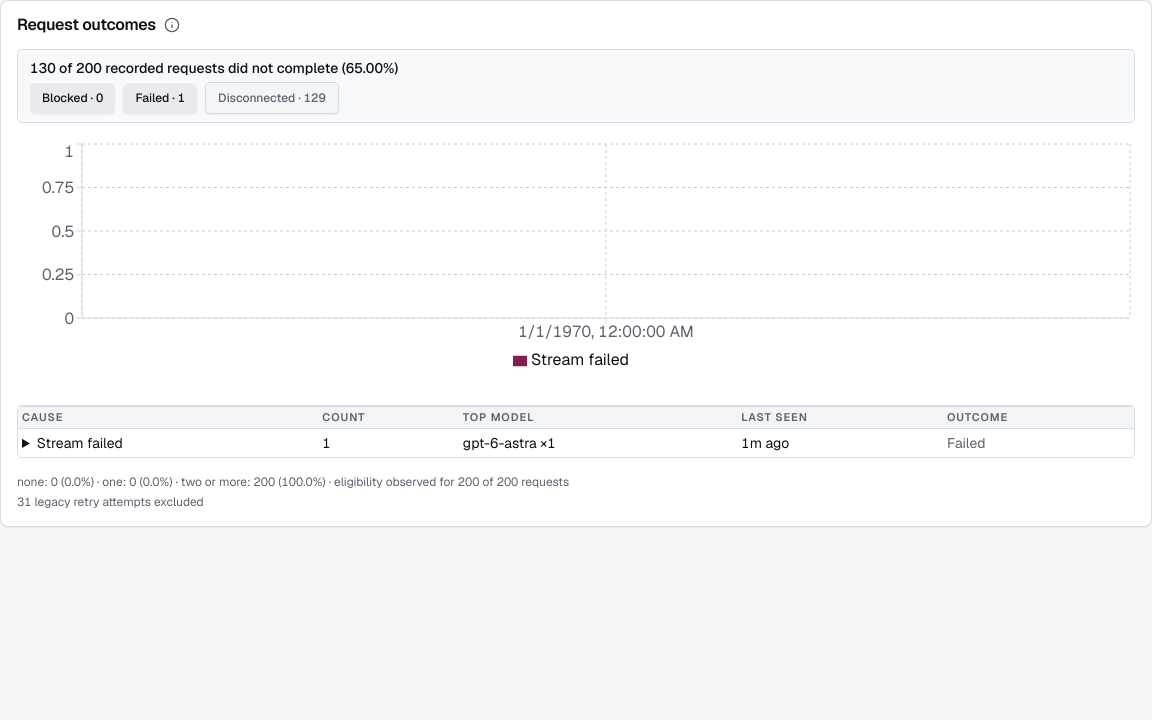
Scenario: request outcome interactions › distinguishes a filtered empty view from a clean range
Click the button "Failed · 1": coordinates (160, 98) [123,82,197,114]
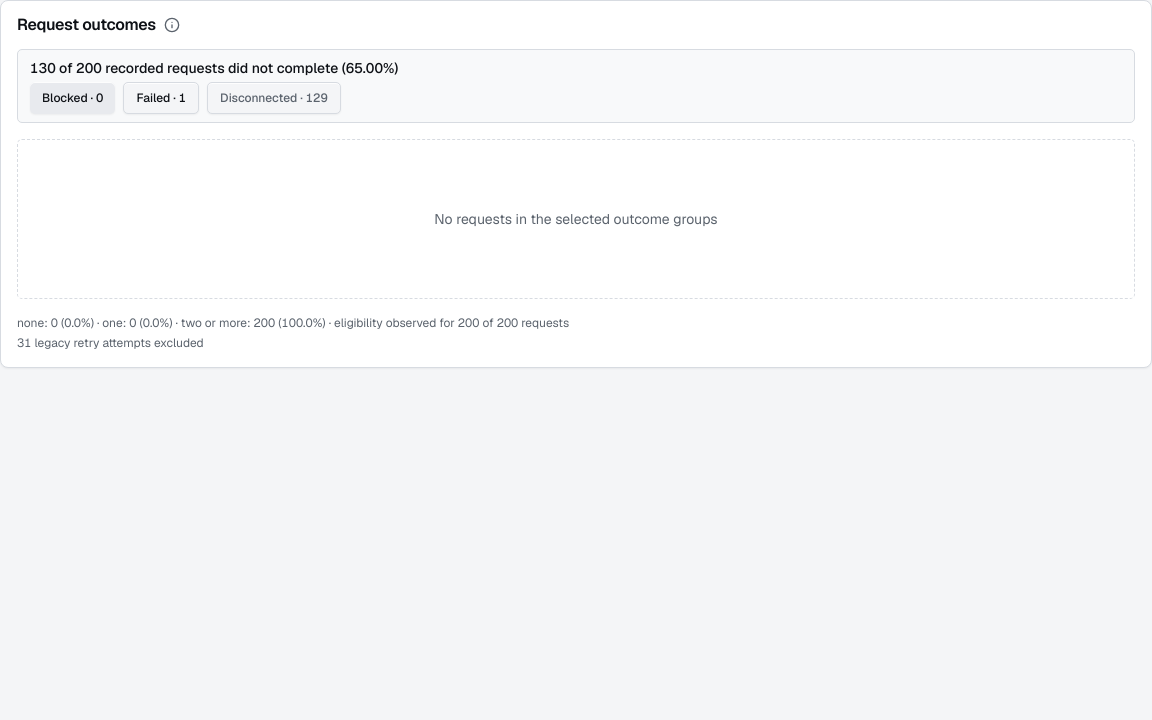
Now the text "No requests in the selected outcome groups" is shown, box [17,139,1135,299]
